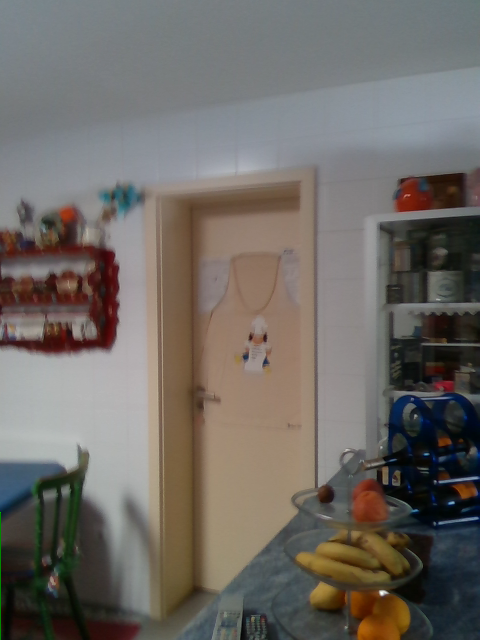closed: (151, 168, 317, 618)
